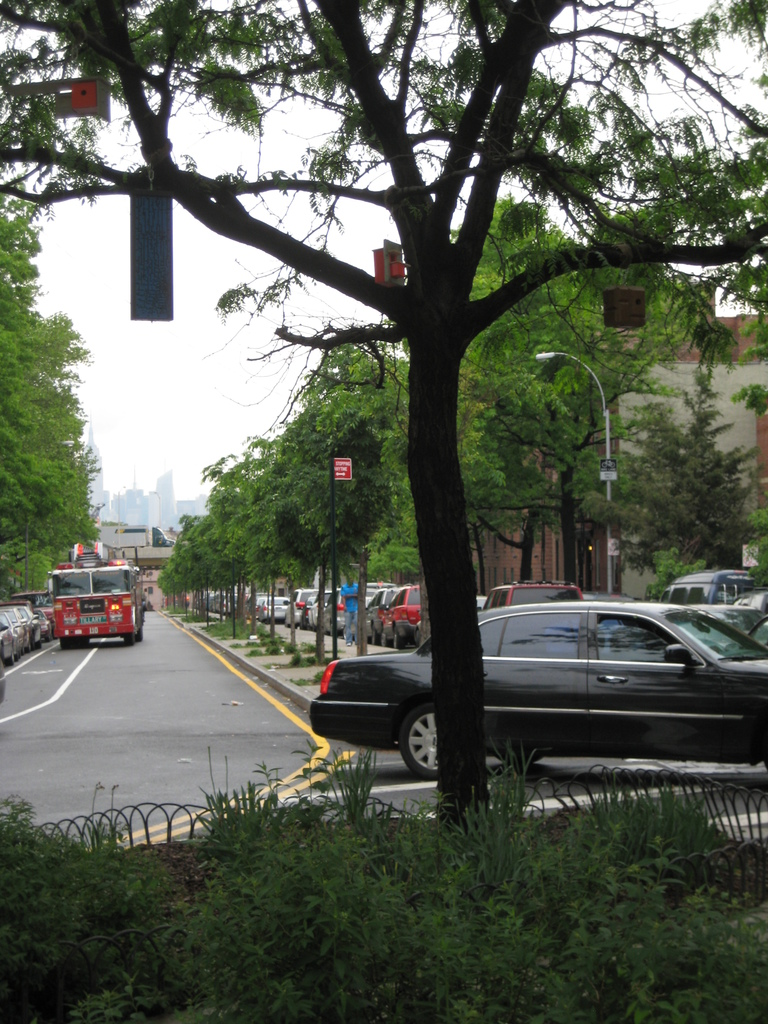Tree: (0, 0, 767, 847), (156, 192, 719, 664), (0, 205, 104, 604), (581, 362, 759, 583), (643, 547, 720, 602)
